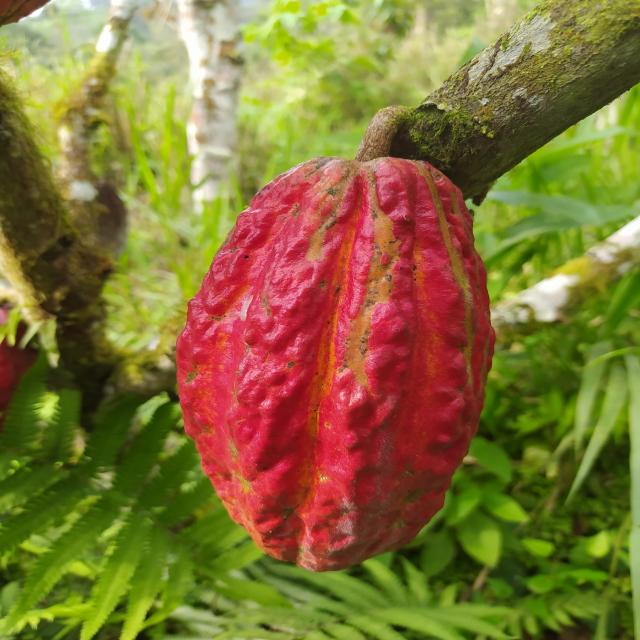Sana: (178, 152, 498, 574)
